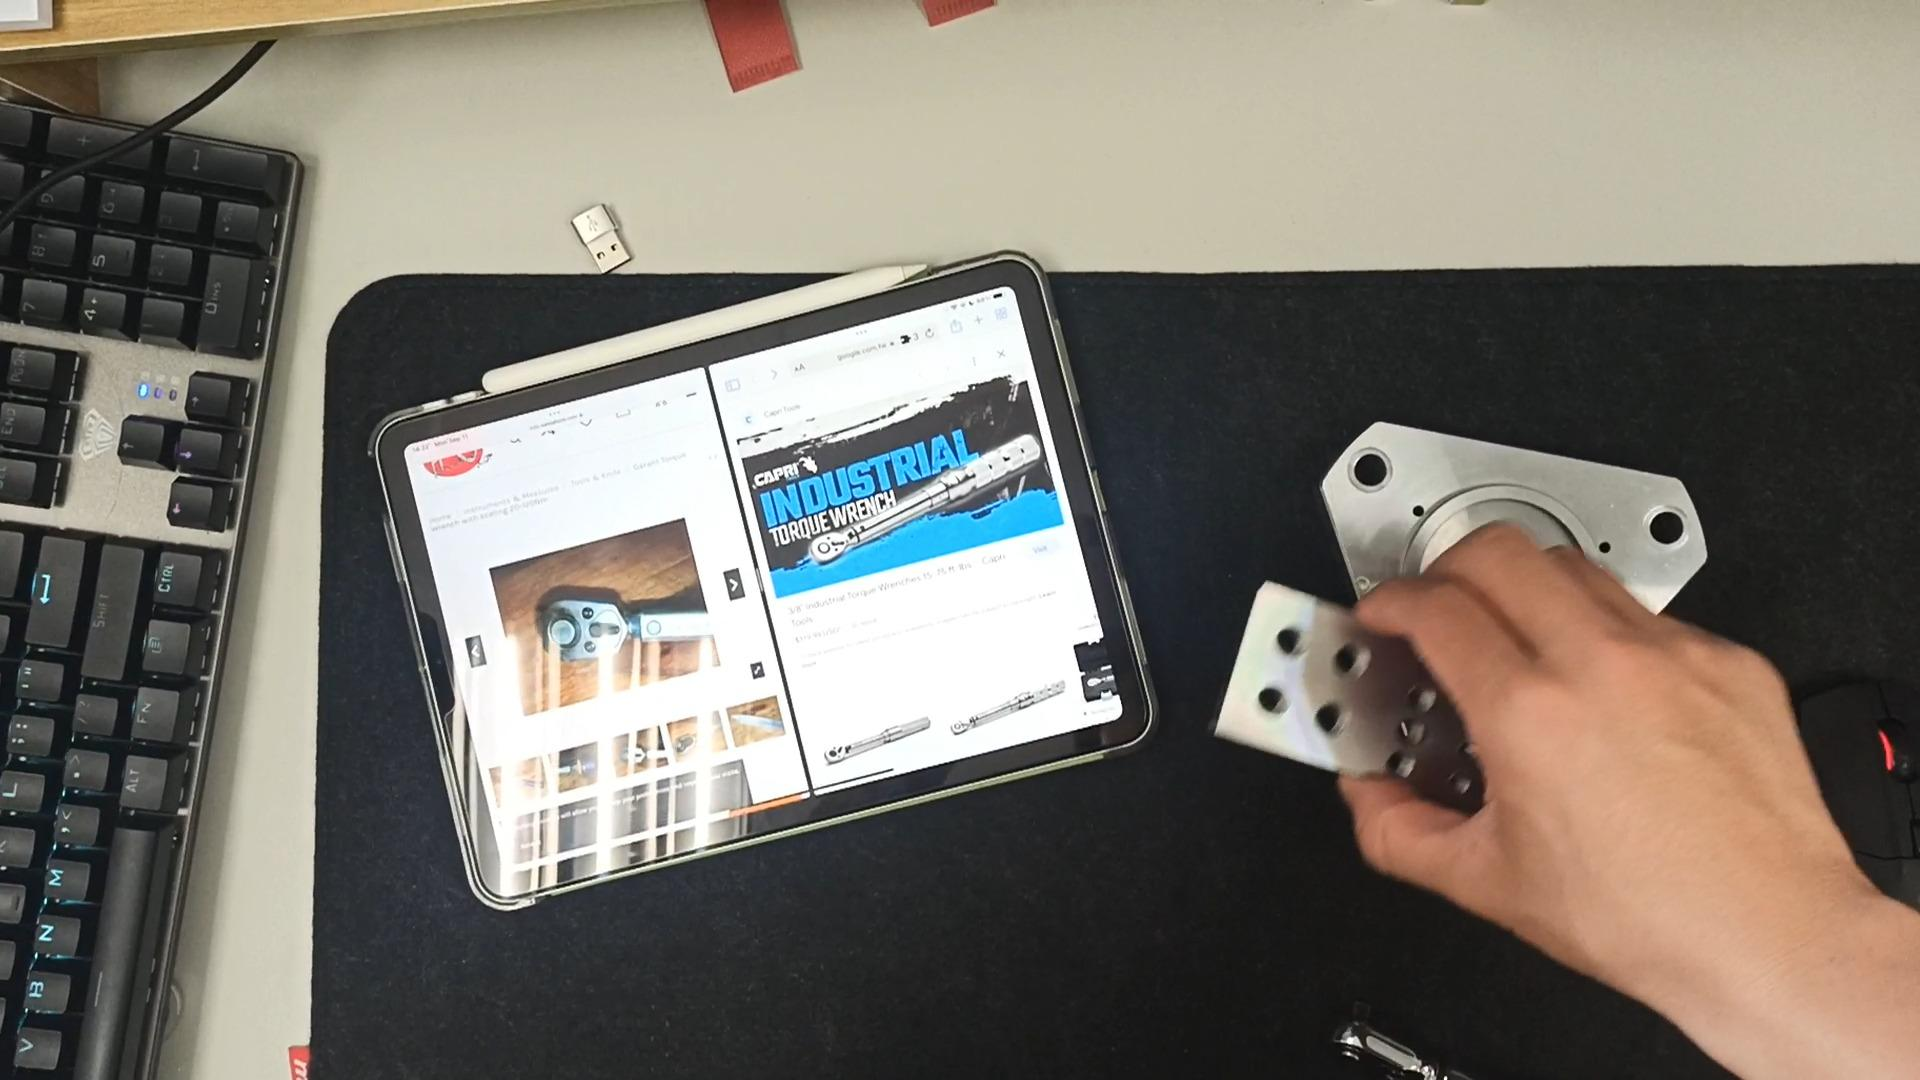Tool: (541, 600, 625, 659), (807, 526, 847, 564)
hole: (1625, 506, 1698, 562), (1320, 630, 1385, 680), (1337, 454, 1398, 502), (1245, 688, 1307, 732), (1303, 692, 1356, 742), (1259, 626, 1315, 674), (1375, 750, 1429, 785), (1390, 716, 1435, 745), (1411, 680, 1443, 712)
